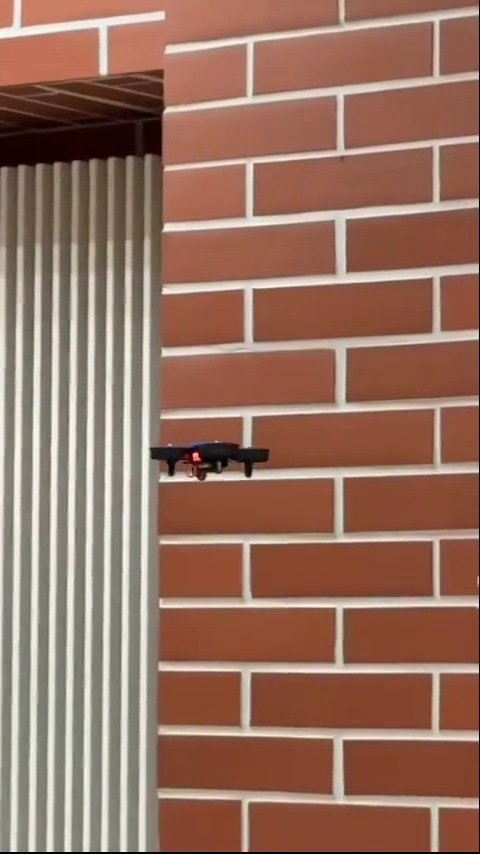drone: (143, 433, 278, 482)
